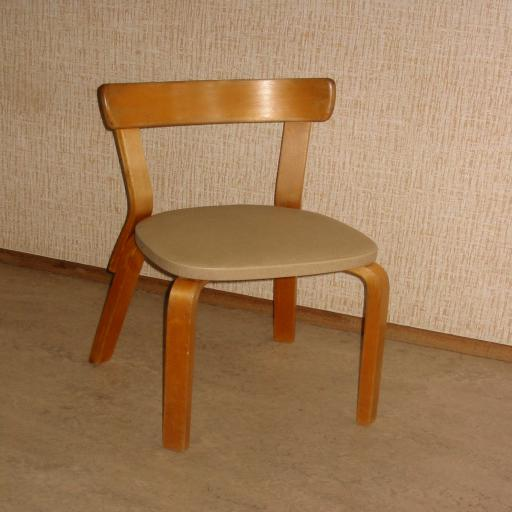chair: (88, 78, 390, 452)
wall: (0, 0, 512, 346)
